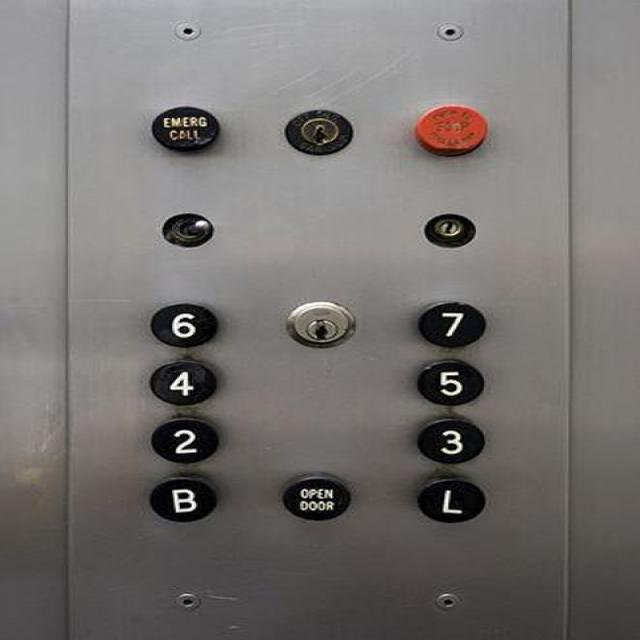2: (145, 416, 223, 464)
3: (412, 416, 485, 464)
4: (144, 357, 219, 406)
5: (412, 357, 485, 407)
6: (144, 300, 221, 348)
7: (412, 298, 488, 349)
B: (142, 473, 218, 523)
L: (412, 475, 487, 524)
keyhole: (279, 105, 357, 156), (281, 299, 355, 348), (418, 209, 478, 250)
text_CALL CANCEL: (147, 101, 221, 153)
text_open door: (280, 472, 352, 521)
text_stop: (411, 102, 489, 158)
unknown: (153, 208, 219, 248)
